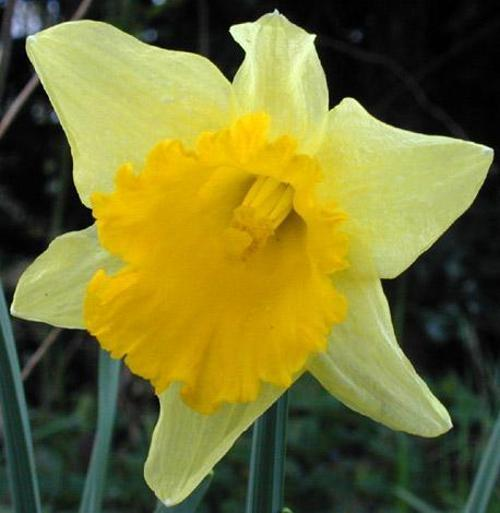flower1: (11, 11, 495, 507)
